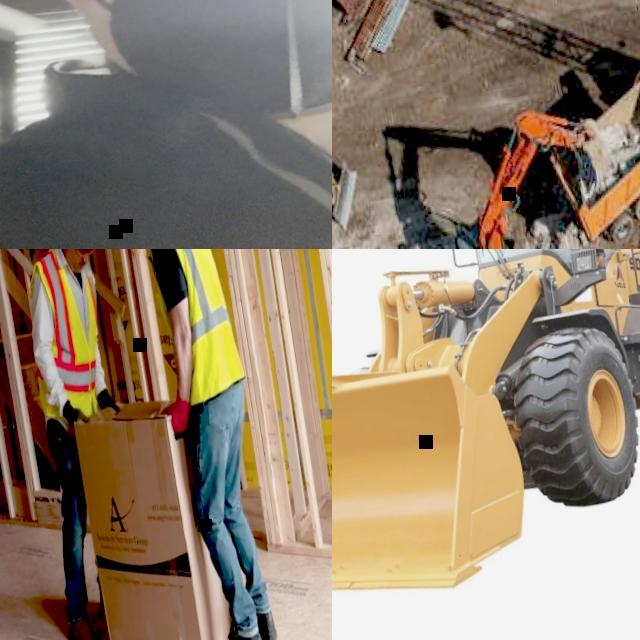Mask: (74, 0, 332, 150)
NO-Mask: (71, 252, 84, 274)
NO-Safety Vest: (0, 27, 332, 249)
Person: (0, 0, 332, 249), (119, 249, 294, 640), (0, 249, 162, 640)
Safety Vest: (16, 249, 117, 437), (146, 249, 249, 406)
machinery: (332, 249, 640, 640), (388, 94, 640, 249), (527, 22, 640, 249), (332, 124, 365, 248)
